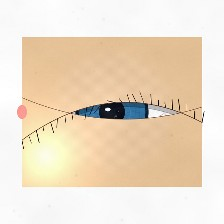pinguecula_lesion: (158, 104, 201, 139)
